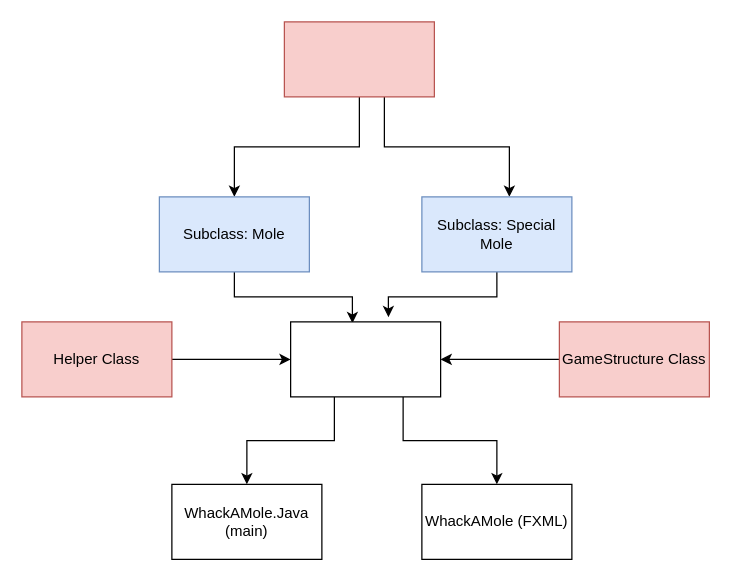
This 731x581 diagram has some shape labels left out. Here are the shapes that lost their labels. From the top down, the centre of each, then its label:
point 358,59: SuperClass: Hole
point 365,359: WhackAMoleController
